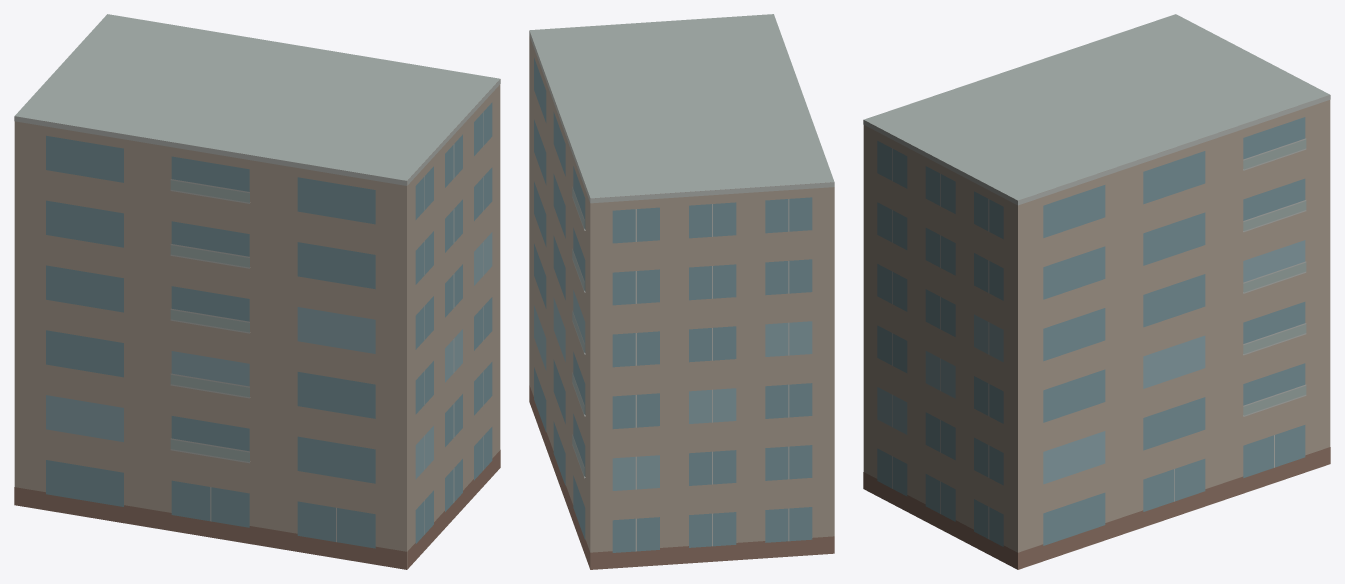
Rendered from survey-upis-32978904.glb.
The picture shows the model from 3 angles, left to right: view 1: azimuth 30°, elevation 25°; view 2: azimuth 150°, elevation 25°; view 3: azimuth 270°, elevation 25°; orthographic projection. The views are drawn at different scales.
Visible parts, largest first — view 1: survey-upis-32978904.tmp; view 2: survey-upis-32978904.tmp; view 3: survey-upis-32978904.tmp.
Part boxes in pixels (x1,y1,x2,y2): survey-upis-32978904.tmp: (14,14,500,569); survey-upis-32978904.tmp: (529,14,834,569); survey-upis-32978904.tmp: (863,14,1330,569).
Bounding box in the file's own units: 19.95 × 18.4 × 21.09.
